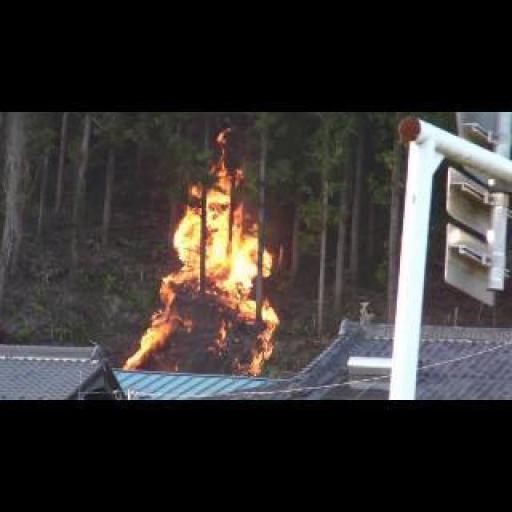smoke: (130, 125, 280, 374)
